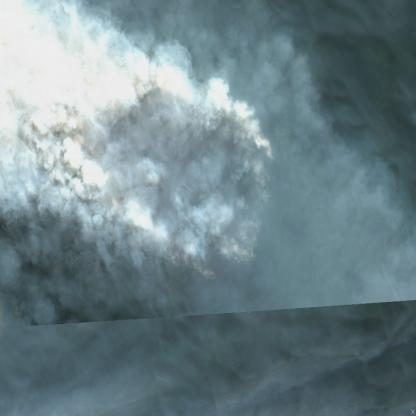fire: (81, 53, 278, 289)
